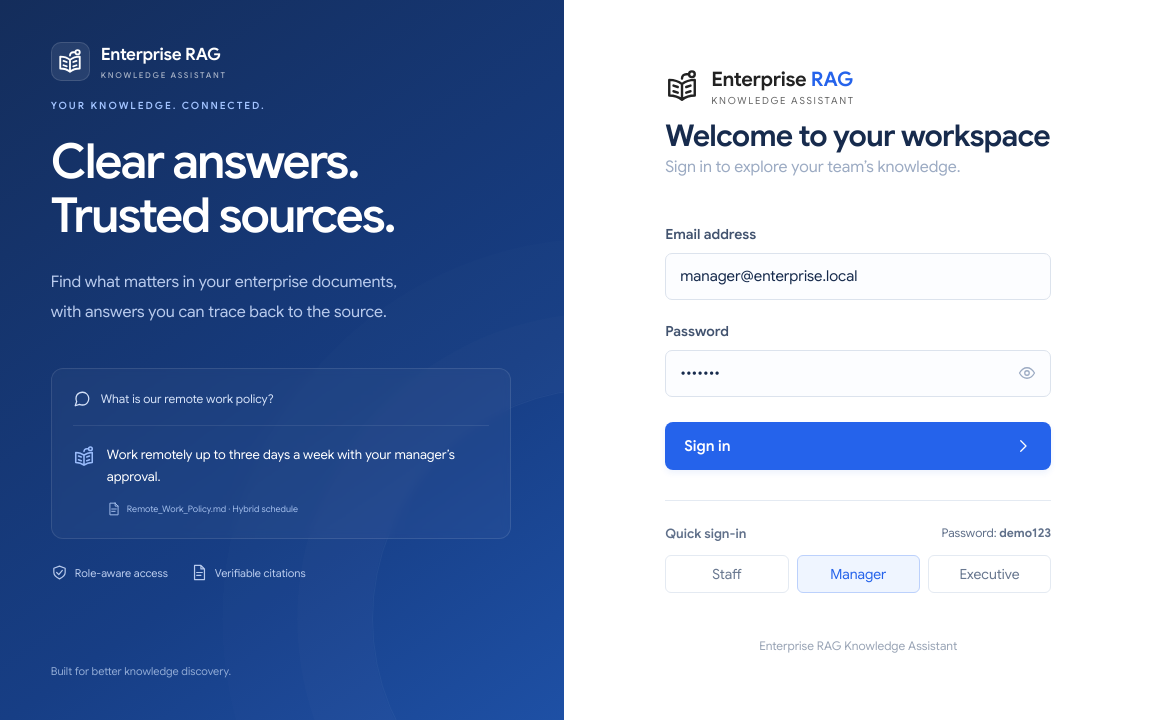
frontend independent workflows › redirects to login when search returns 401
Click the button "Sign in".
click(707, 446)  # box left=665, top=422, right=1051, bottom=470
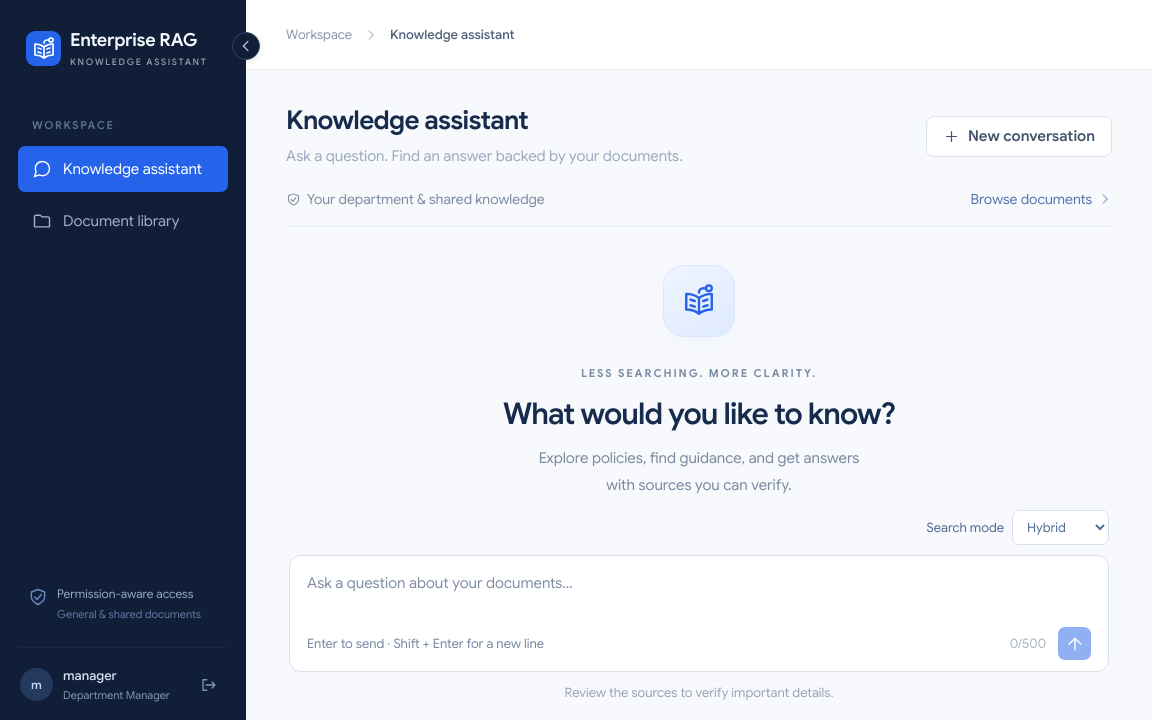
Expected: the heading "Knowledge assistant" is shown, left=286, top=104, right=528, bottom=136
Type "annual leave" into the text box labelled "Ask a question about your documents".
click(699, 597); type("annual leave")  # box left=307, top=571, right=1091, bottom=622
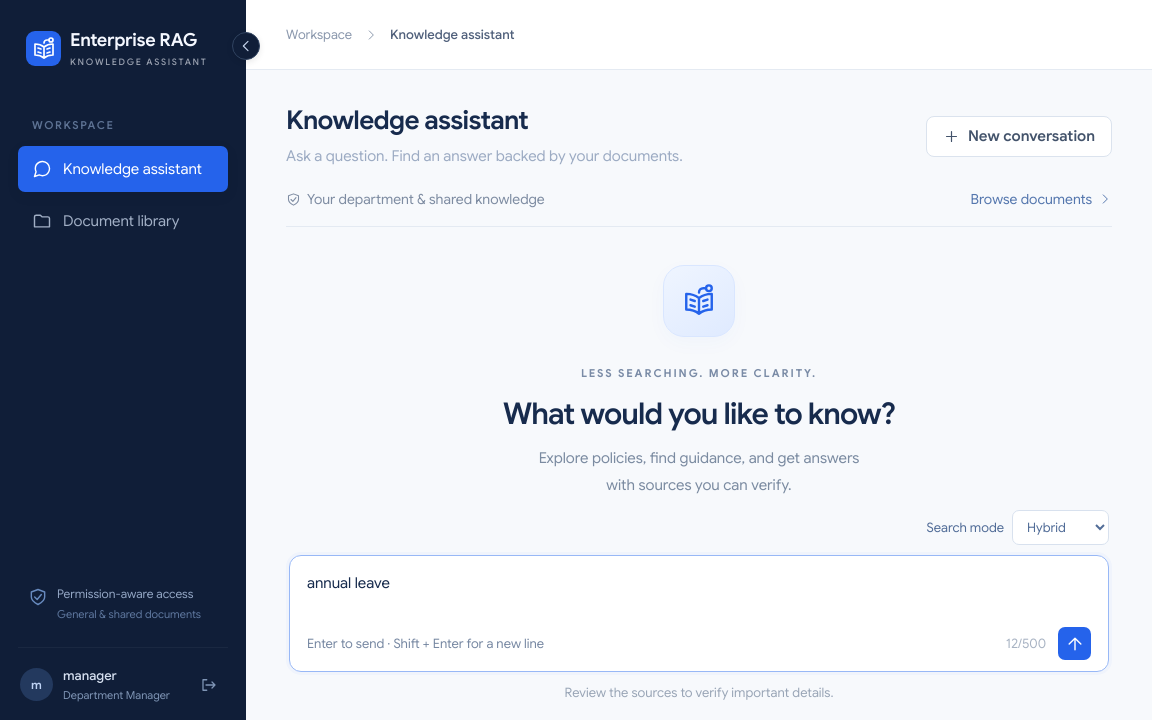
Click the button named "Send question".
click(1074, 644)  # box left=1058, top=627, right=1091, bottom=660
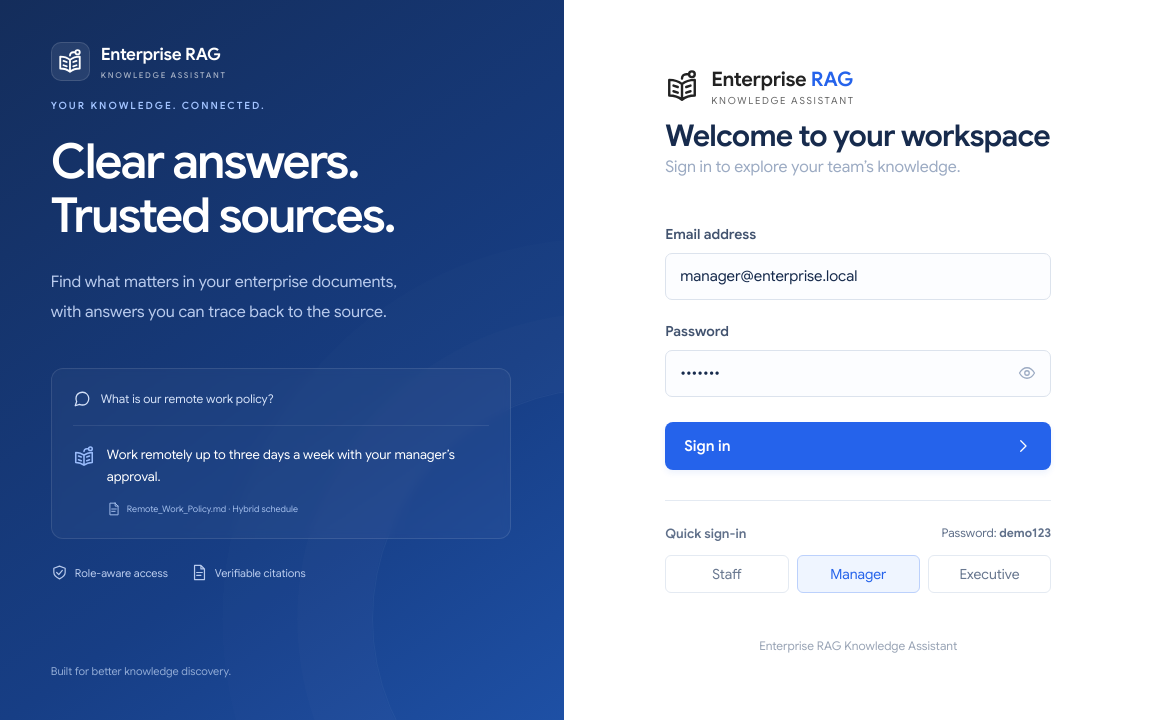
Expected: the button "Sign in" is shown, left=665, top=422, right=1051, bottom=470
